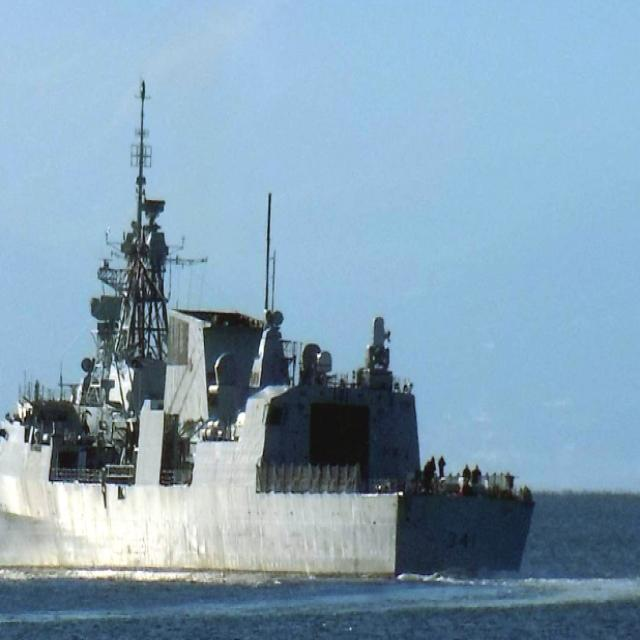Fragata: (1, 74, 536, 583)
